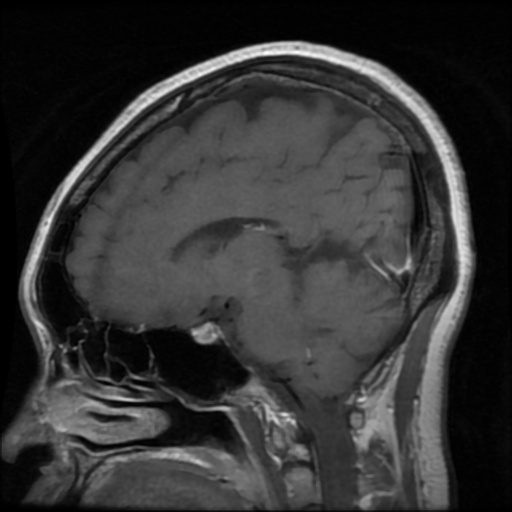pituitary: (193, 320, 220, 343)
